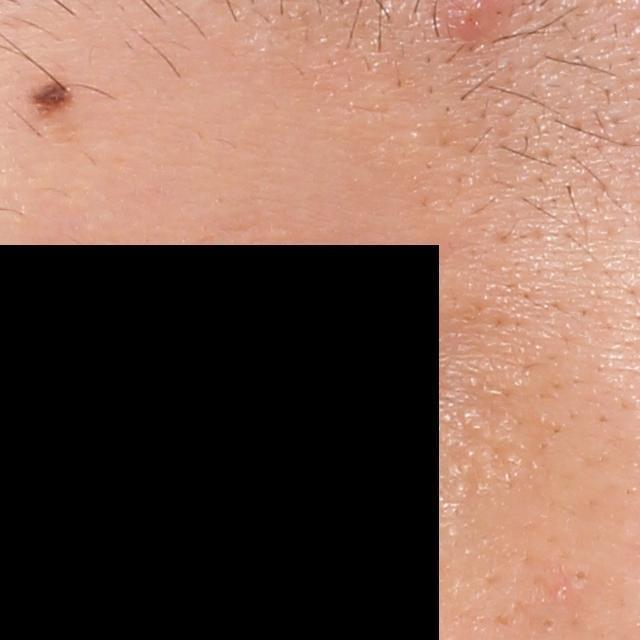comedo: (574, 567, 591, 584)
nevus: (24, 81, 75, 117)
